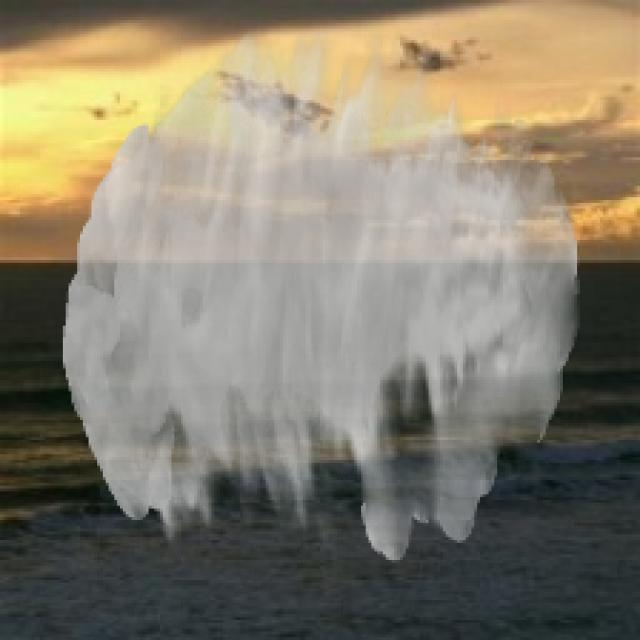Smoke: (63, 26, 580, 563)
